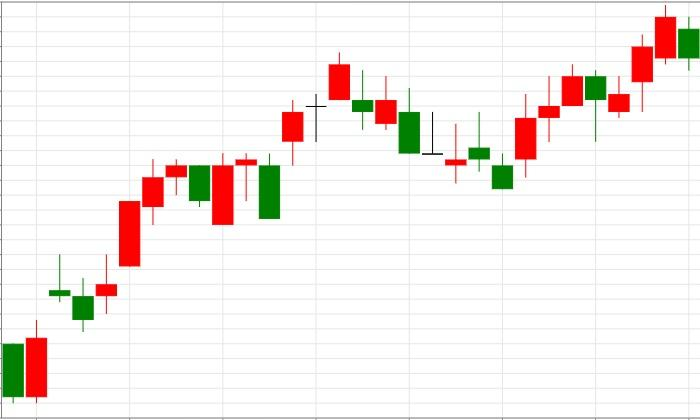hanging_man_fall: (492, 64, 606, 189)
